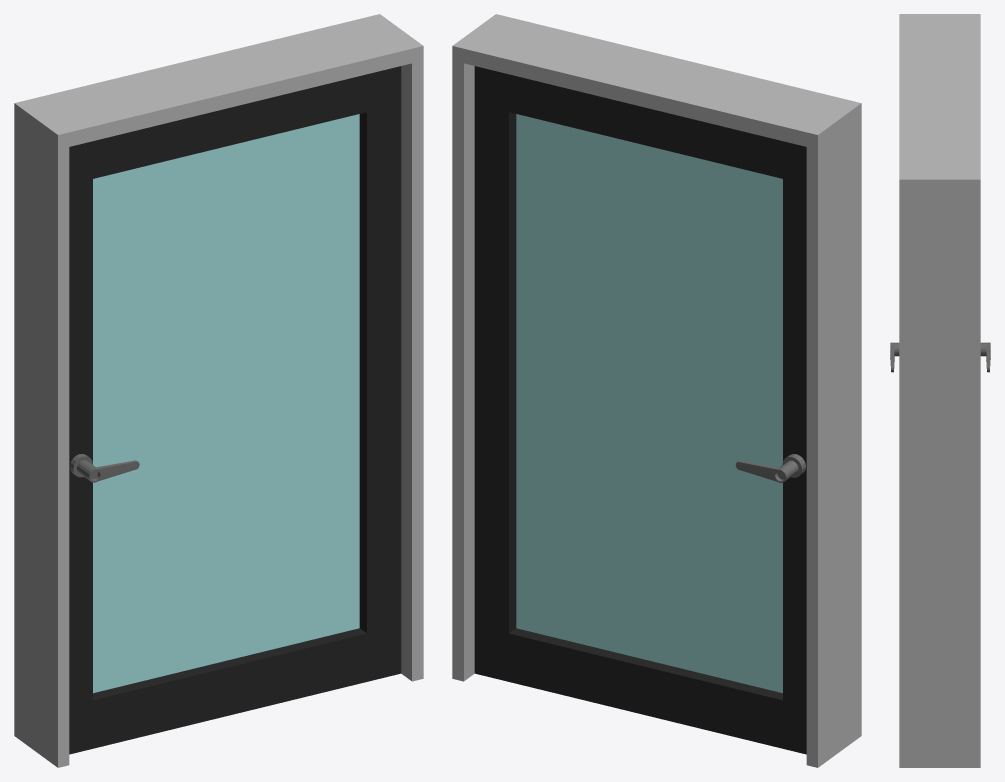
The model's file is door_simple_1.fbx.
3 views of the same model, side by side, from view 1: azimuth 30°, elevation 25°; view 2: azimuth 150°, elevation 25°; view 3: azimuth 270°, elevation 25° (orthographic). The views are drawn at different scales.
Parts seen in each view (by area): view 1: door, Surround, door handle 1; view 2: door, Surround, door handle 2; view 3: Surround, door handle 2, door handle 1.
Part boxes in pixels (x1,y1,x2,y2): door: (69, 66, 401, 754); Surround: (14, 14, 423, 767); door handle 1: (70, 454, 139, 482); door: (474, 66, 806, 754); Surround: (452, 14, 861, 767); door handle 2: (735, 454, 805, 482); Surround: (899, 14, 980, 767); door handle 2: (980, 342, 990, 372); door handle 1: (890, 342, 899, 372).
Bounding box in the file's own units: 242 × 400 × 61.86.
